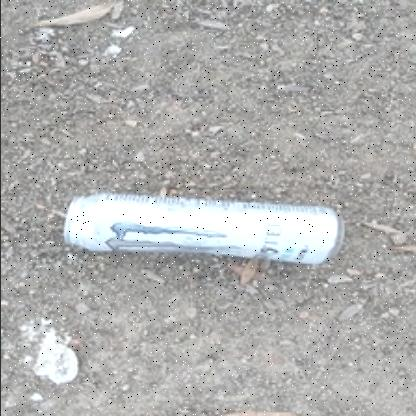Can: (61, 193, 342, 267)
